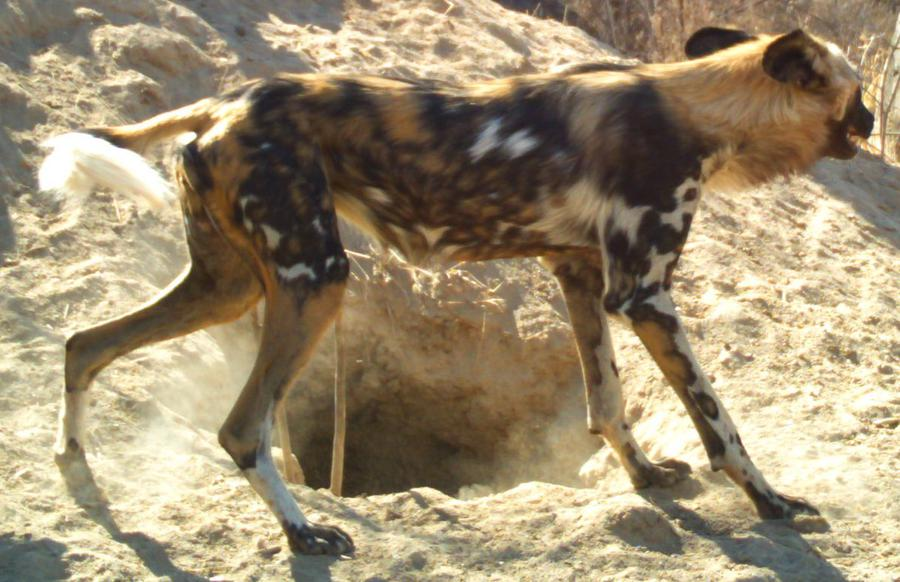wilddog: (1, 1, 900, 582)
